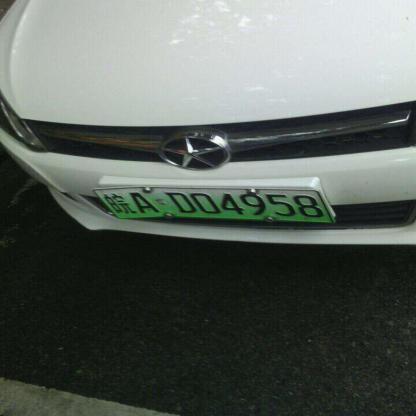lp: (92, 189, 336, 220)
